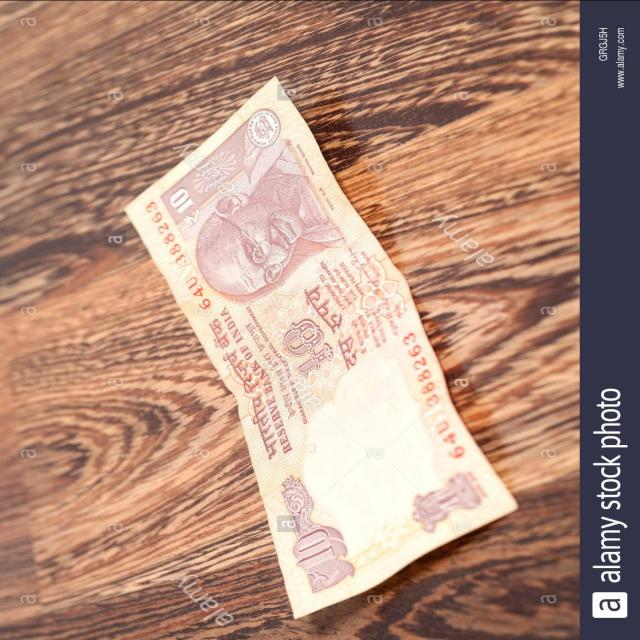10IndianRupees: (112, 68, 505, 590)
